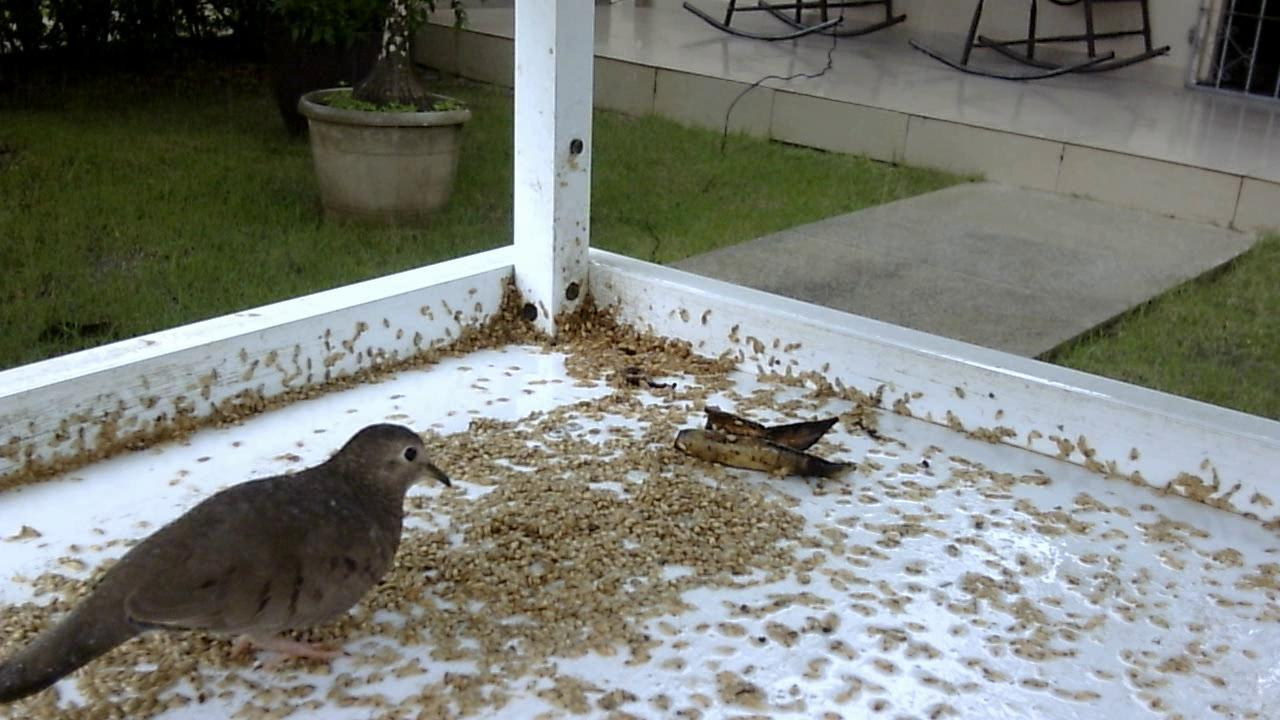rolinha: (1, 412, 465, 705)
